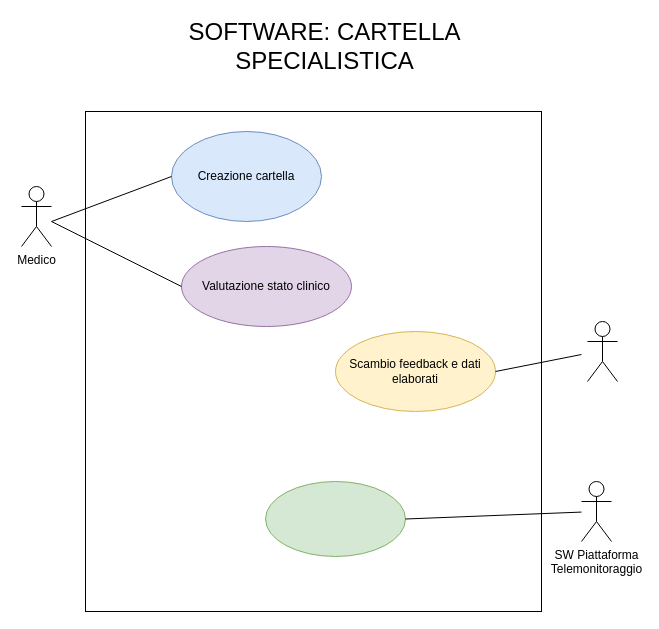
Some shapes in this 659 by 629 pixel diagram are drawn without their labels. Here are the shapes that lost their labels. From the top down, the centre of each, then its label:
(602,351): DT
(335,518): Scambio dati aggregati
